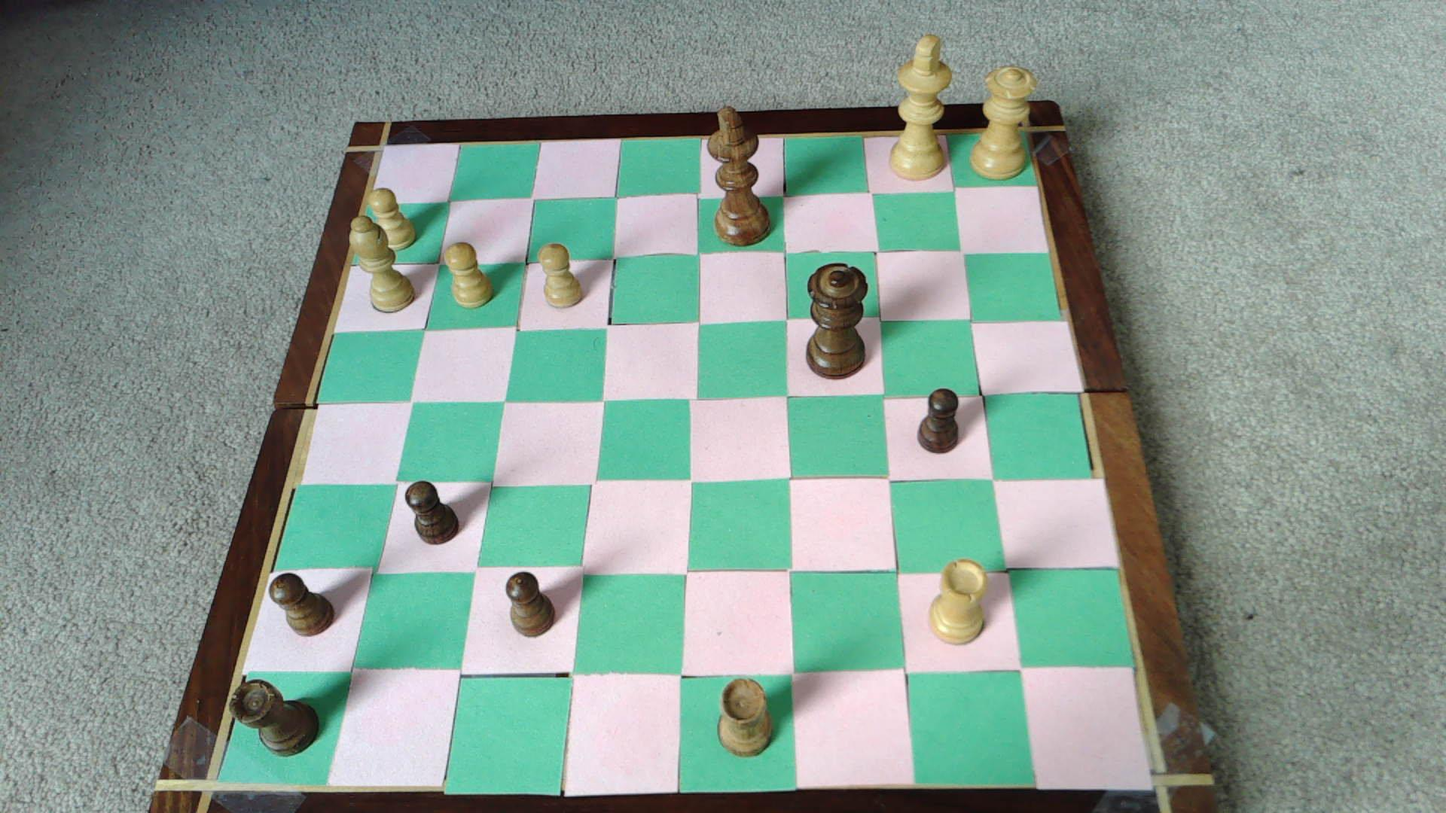dark_piece: (709, 105, 774, 246), (807, 263, 867, 378), (231, 680, 319, 754), (716, 677, 769, 756), (269, 575, 334, 637), (406, 481, 459, 543), (506, 571, 555, 636), (919, 388, 961, 451)
white_piece: (889, 33, 953, 180), (970, 67, 1037, 179), (349, 214, 416, 312), (930, 559, 986, 643), (445, 242, 494, 307), (366, 188, 416, 251), (539, 243, 584, 308)
